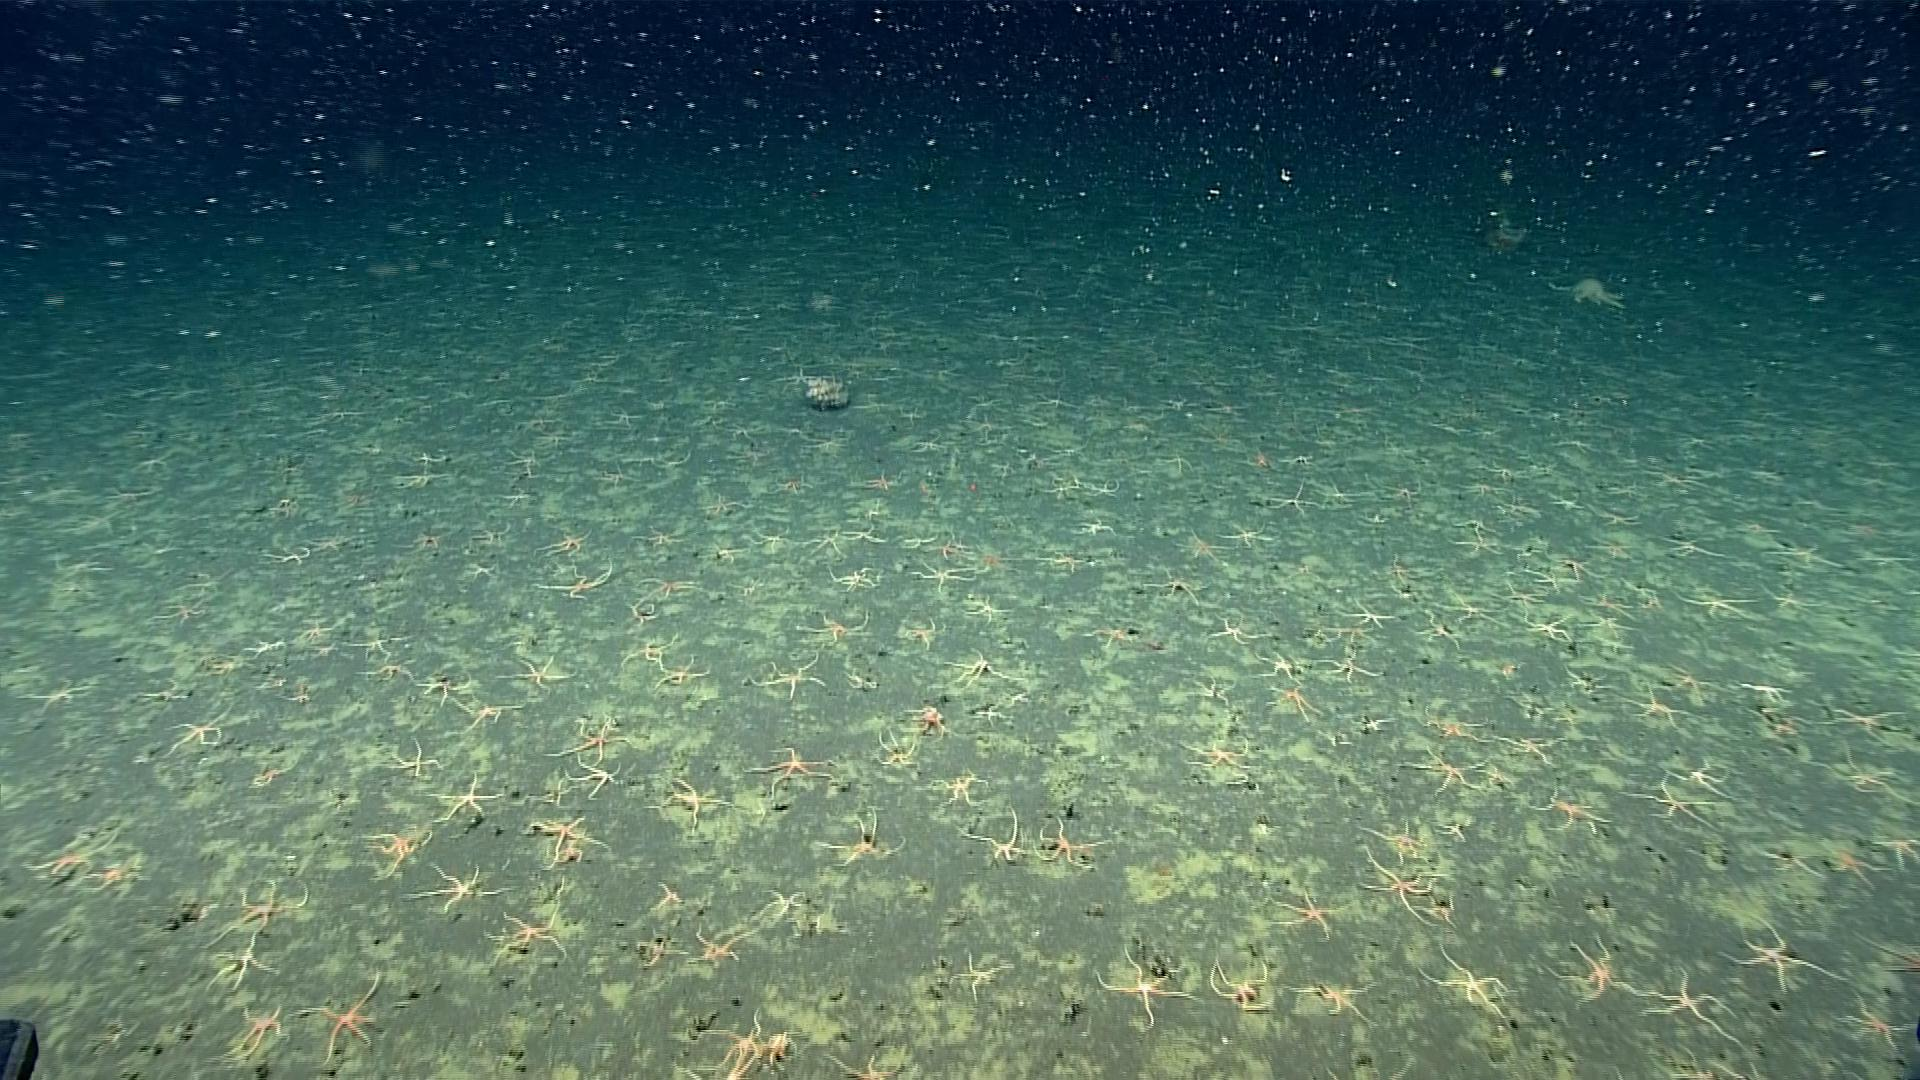brittle_sea_star: (1714, 913, 1846, 990), (1093, 940, 1204, 1029), (1630, 964, 1751, 1044), (287, 977, 384, 1067), (198, 880, 309, 948), (1419, 939, 1516, 1017), (1542, 934, 1643, 1001), (1358, 841, 1436, 927), (1622, 771, 1725, 831), (15, 827, 116, 884), (694, 1009, 793, 1067), (398, 861, 505, 911), (196, 926, 278, 990), (525, 808, 611, 866), (1283, 971, 1379, 1022), (1812, 746, 1898, 803), (738, 745, 843, 791), (481, 909, 568, 963), (824, 814, 906, 870), (216, 1000, 287, 1064), (1396, 746, 1490, 795), (650, 773, 741, 823), (361, 818, 433, 881), (492, 642, 574, 696), (1270, 887, 1353, 940), (1837, 989, 1911, 1048), (956, 807, 1033, 864), (1619, 680, 1701, 733), (542, 715, 628, 765), (423, 775, 509, 825), (1526, 785, 1611, 833), (1036, 814, 1112, 869), (1357, 814, 1440, 864), (1209, 957, 1274, 1017), (531, 558, 617, 600), (945, 952, 1015, 1004), (752, 653, 829, 699), (164, 708, 233, 758), (1668, 752, 1737, 800), (674, 1046, 770, 1079), (1418, 704, 1493, 746), (688, 919, 756, 965), (938, 647, 1009, 690), (1178, 733, 1253, 773), (563, 758, 626, 804), (451, 695, 526, 733), (795, 609, 874, 645), (83, 851, 148, 894), (1439, 588, 1505, 628), (1494, 731, 1569, 765), (911, 555, 989, 588), (1681, 589, 1764, 620), (1771, 541, 1845, 574), (1412, 613, 1468, 657), (32, 679, 99, 715), (633, 571, 711, 601), (344, 625, 410, 661), (1147, 568, 1211, 605), (1203, 613, 1273, 646), (1337, 595, 1399, 632), (1317, 647, 1381, 683), (1266, 682, 1323, 721), (930, 769, 984, 810), (1266, 480, 1321, 520), (752, 886, 814, 920), (1829, 705, 1905, 733), (621, 638, 690, 669), (1829, 845, 1879, 886), (1174, 527, 1229, 564), (533, 529, 596, 560), (156, 592, 210, 629), (633, 931, 686, 968), (413, 674, 471, 707), (823, 1048, 885, 1079), (870, 729, 918, 769), (823, 566, 887, 595), (386, 740, 440, 774), (1499, 574, 1549, 611), (1217, 520, 1273, 551), (1449, 526, 1505, 558), (1658, 533, 1724, 559), (630, 520, 687, 550), (289, 613, 339, 647), (385, 467, 454, 492), (359, 651, 413, 683), (1767, 587, 1825, 615), (1523, 613, 1576, 644), (239, 633, 291, 662), (1255, 651, 1305, 682), (248, 758, 299, 787), (501, 446, 546, 479), (260, 542, 313, 570), (1527, 563, 1580, 591), (1081, 624, 1139, 649), (651, 662, 705, 688), (959, 589, 1004, 621), (800, 527, 845, 559), (1385, 570, 1424, 605), (695, 492, 749, 517), (906, 702, 949, 732), (899, 616, 938, 650), (621, 596, 661, 629), (841, 521, 887, 549), (1712, 1059, 1775, 1079), (1495, 498, 1547, 522), (649, 878, 686, 911), (402, 527, 447, 554), (750, 525, 795, 551), (1600, 632, 1643, 658), (591, 463, 638, 487), (1655, 1058, 1708, 1079), (472, 524, 518, 547), (202, 653, 245, 678), (1882, 945, 1919, 975), (1586, 612, 1636, 633), (931, 535, 972, 560), (1076, 514, 1117, 539), (775, 469, 814, 496), (1042, 550, 1087, 572), (1379, 480, 1419, 504), (1593, 538, 1639, 558), (1039, 475, 1079, 497), (1879, 837, 1916, 861), (1084, 479, 1122, 501), (864, 468, 899, 492), (463, 560, 500, 583), (1880, 1059, 1919, 1079), (989, 456, 1018, 481), (901, 533, 936, 551)
